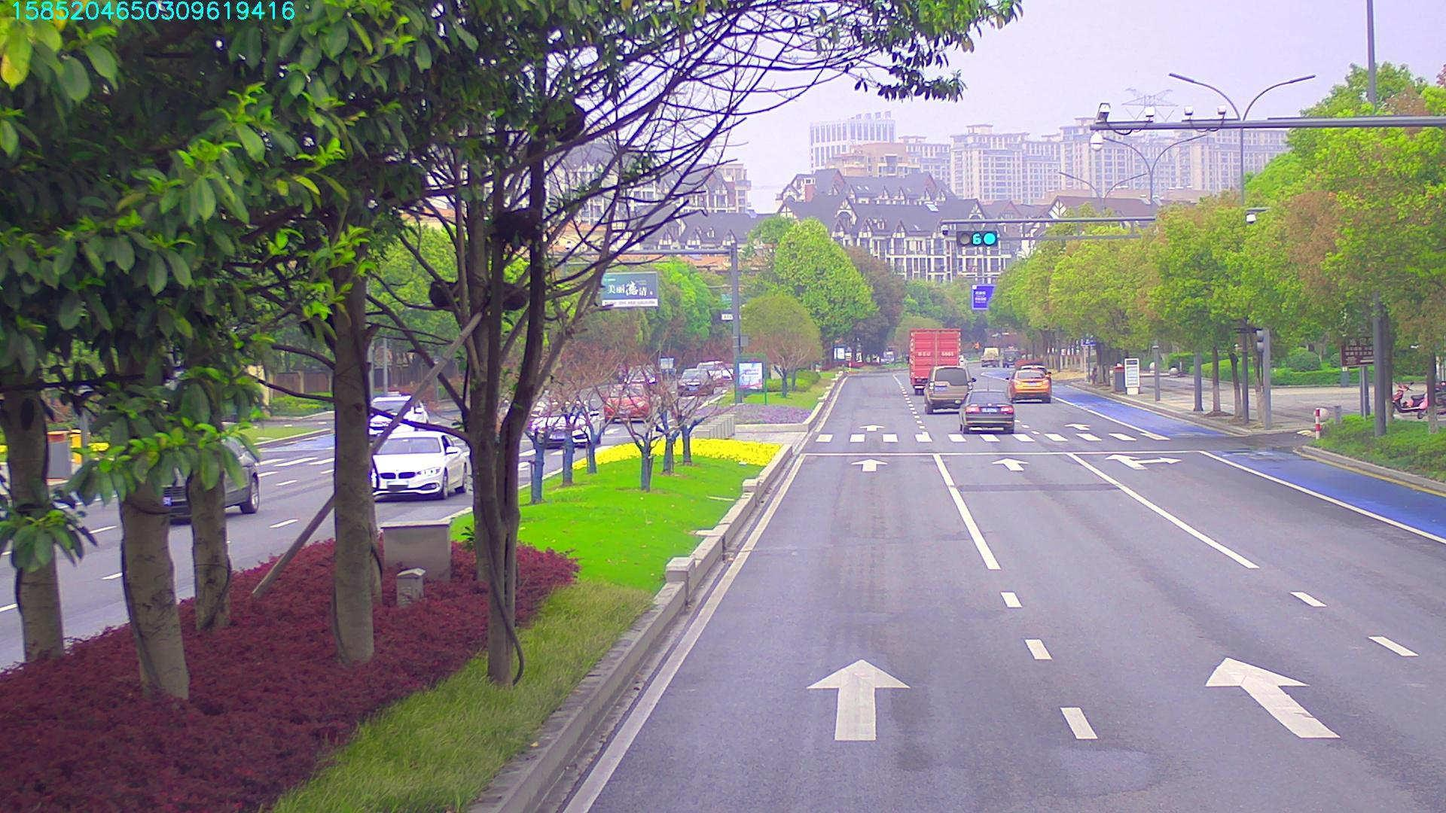green: (959, 231, 997, 246)
